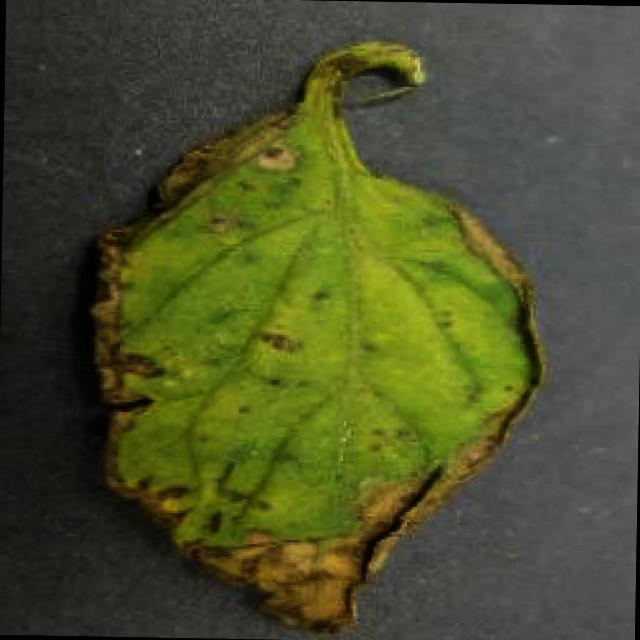Tomato bacterial spot leaf: (66, 97, 557, 640)
